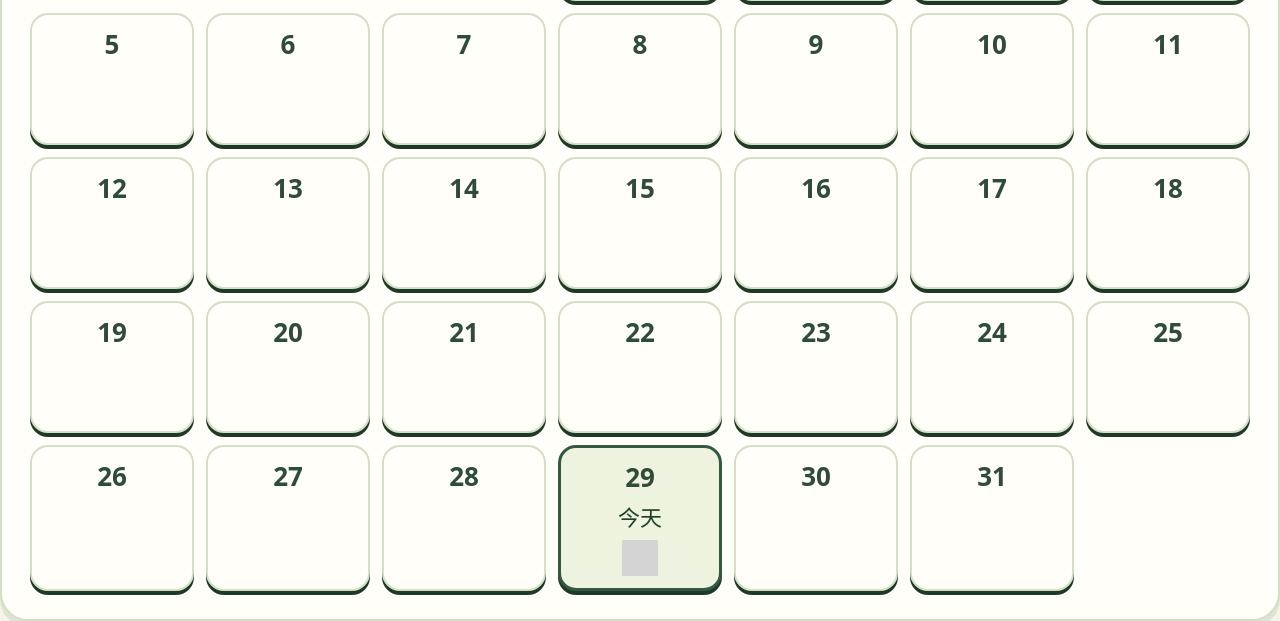
Test: 查询页面 › 月历包含空日期，日期详情明确显示尚未加载完并继续分页
(page scrolled)
Click the button with aria-label "2026-10-29" at (640, 518), box x1=558 y1=445 x2=722 y2=592
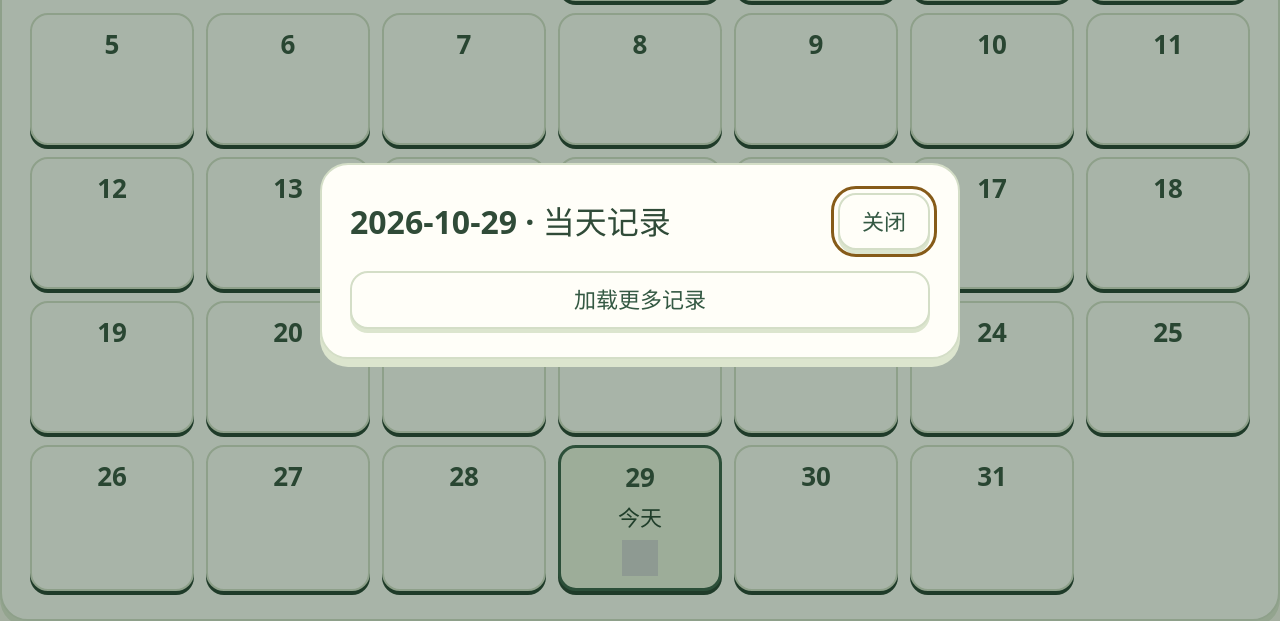
Click the button "加载更多记录" at (640, 300), box x1=350 y1=271 x2=930 y2=329
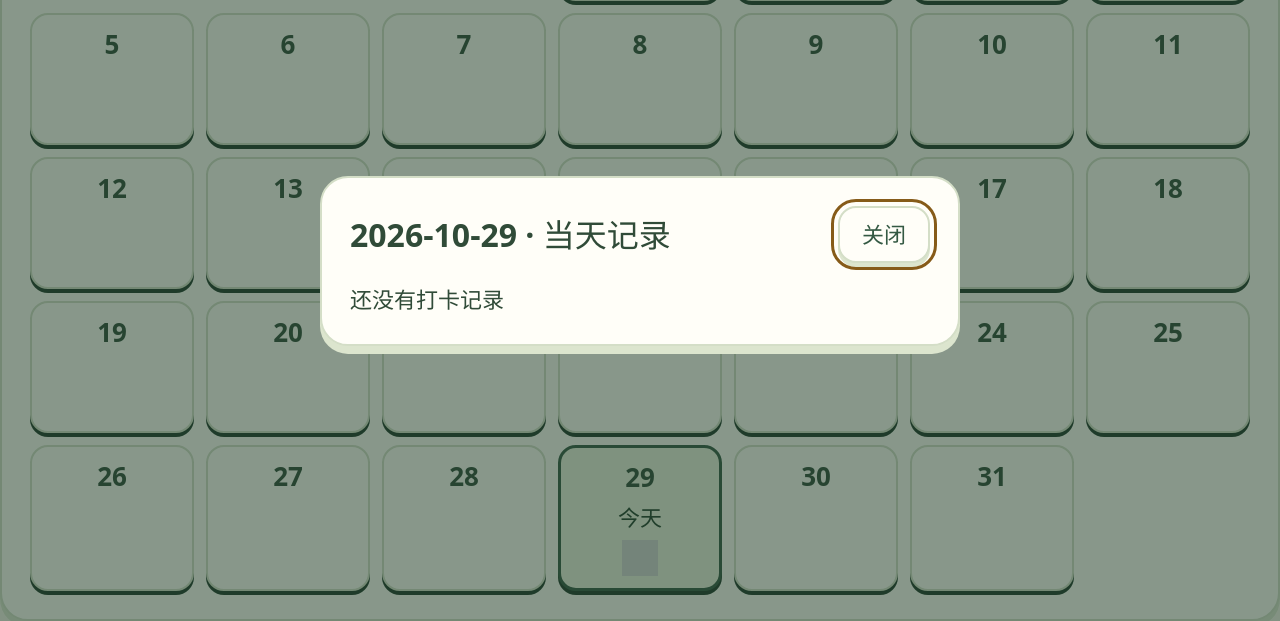
Expected: the button "加载更多记录" is gone
